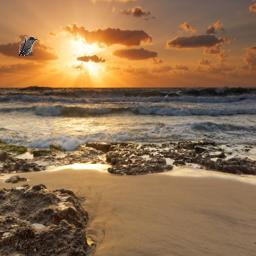Cuckoo: (19, 36, 37, 56)
